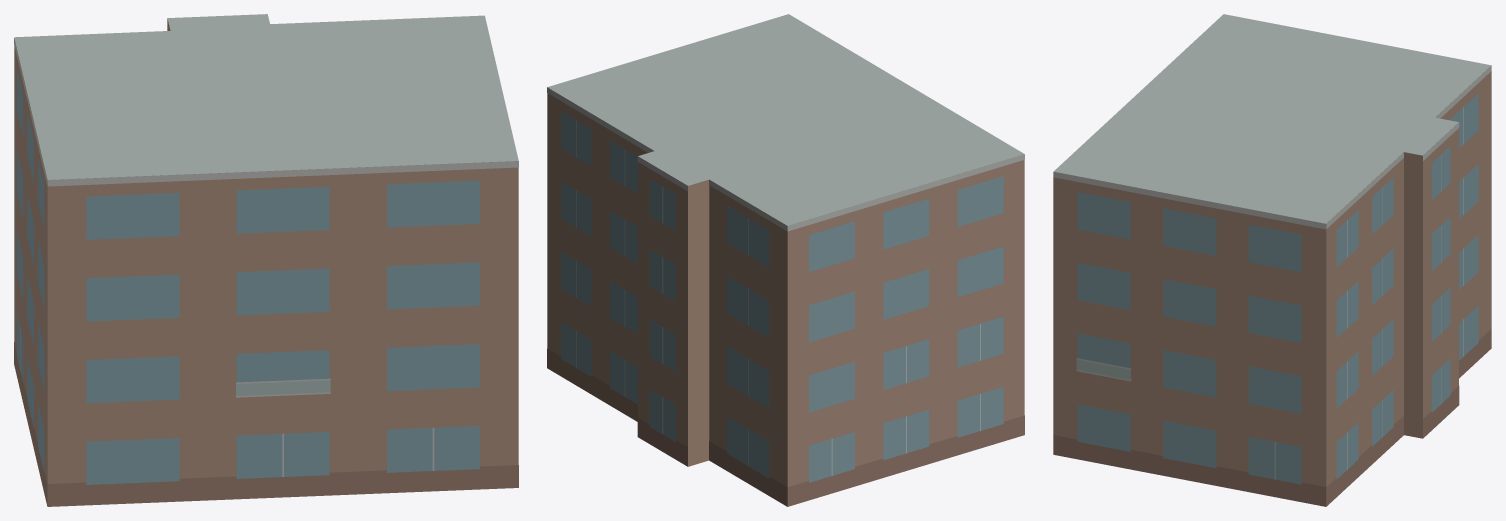
File: survey-upis-32819789.glb
3 renders of one model, left to right at view 1: azimuth 30°, elevation 25°; view 2: azimuth 150°, elevation 25°; view 3: azimuth 270°, elevation 25°, orthographic. The views are drawn at different scales.
Parts seen in each view (by area): view 1: survey-upis-32819789.tmp; view 2: survey-upis-32819789.tmp; view 3: survey-upis-32819789.tmp.
Part boxes in pixels (x1=…): survey-upis-32819789.tmp: x1=14, y1=14, x2=518, y2=506; survey-upis-32819789.tmp: x1=547, y1=14, x2=1024, y2=506; survey-upis-32819789.tmp: x1=1053, y1=14, x2=1491, y2=506.
Size of the model in its own units: 19.4 by 12.2 by 17.13.
